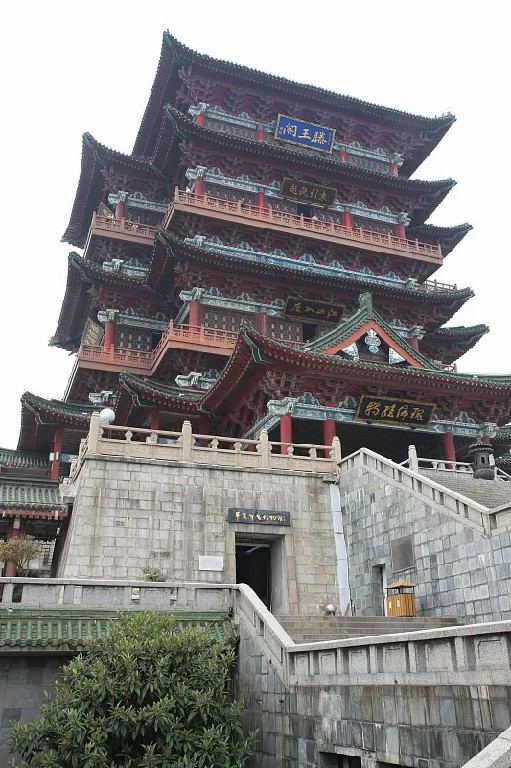Teng: (15, 29, 511, 455)
